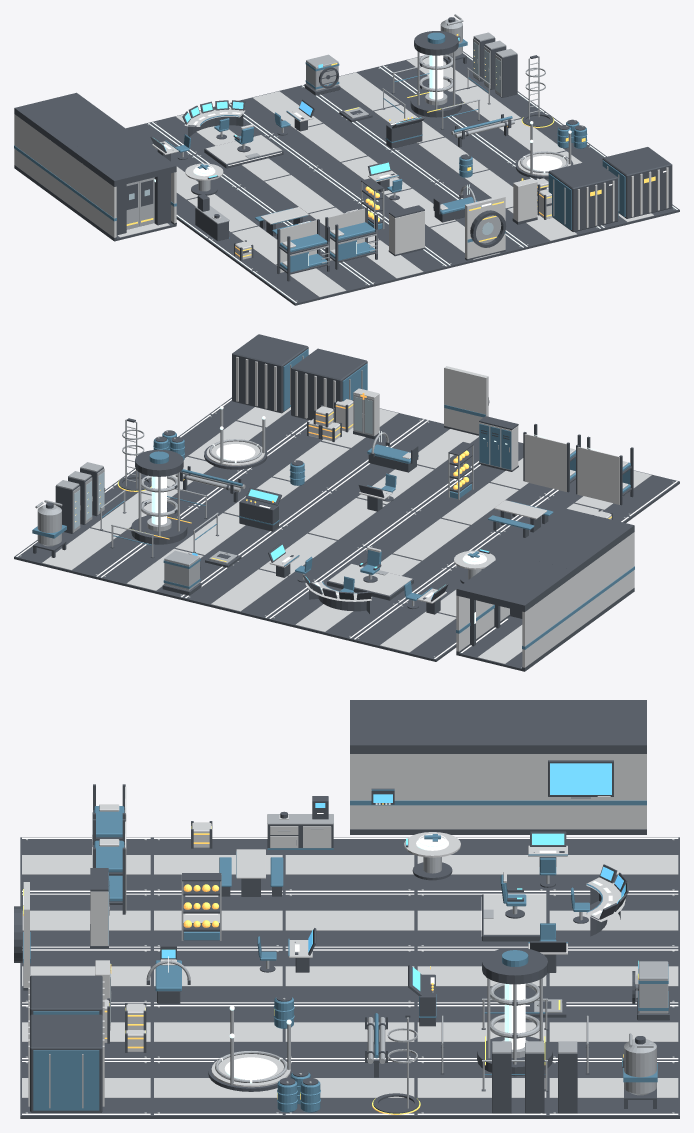
The model's file is spaceship-deck-starter.glb.
3 views of the same model, one above another, from view 1: azimuth 30°, elevation 25°; view 2: azimuth 150°, elevation 25°; view 3: azimuth 270°, elevation 25° (orthographic). The views are drawn at different scales.
Visible parts, largest first — view 1: 027-airlock-chamber/0, 025-corridor-straight/0, 068-cargo-container/0, 027-airlock-chamber/1, 067-cargo-container/0, 011-deck-plate-4m/0, 025-corridor-straight/1, 017-deck-plate-4m/0, 004-deck-plate-4m/0, 007-deck-plate-4m/0, 012-deck-plate-4m/0, 010-deck-plate-4m/0 (+66 smaller); view 2: 025-corridor-straight/0, 025-corridor-straight/1, 027-airlock-chamber/0, 067-cargo-container/0, 068-cargo-container/0, 010-deck-plate-4m/0, 027-airlock-chamber/1, 012-deck-plate-4m/0, 007-deck-plate-4m/0, 018-deck-plate-4m/0, 000-deck-plate-4m/0, 065-escape-pod-hatch/1 (+64 smaller); view 3: 027-airlock-chamber/1, 027-airlock-chamber/0, 025-corridor-straight/0, 025-corridor-straight/1, 007-deck-plate-4m/0, 012-deck-plate-4m/0, 018-deck-plate-4m/0, 013-deck-plate-4m/0, 017-deck-plate-4m/0, 067-cargo-container/2, 010-deck-plate-4m/0, 008-deck-plate-4m/0 (+76 smaller).
Part boxes in pixels (x1=…): 027-airlock-chamber/0: x1=69, y1=133, x2=176, y2=241; 025-corridor-straight/0: x1=14, y1=92, x2=120, y2=200; 068-cargo-container/0: x1=548, y1=160, x2=618, y2=231; 027-airlock-chamber/1: x1=70, y1=155, x2=176, y2=237; 067-cargo-container/0: x1=602, y1=147, x2=672, y2=218; 011-deck-plate-4m/0: x1=271, y1=118, x2=392, y2=168; 025-corridor-straight/1: x1=14, y1=114, x2=58, y2=196; 017-deck-plate-4m/0: x1=393, y1=134, x2=513, y2=182; 004-deck-plate-4m/0: x1=250, y1=253, x2=371, y2=305; 007-deck-plate-4m/0: x1=239, y1=168, x2=359, y2=213; 012-deck-plate-4m/0: x1=316, y1=150, x2=436, y2=200; 010-deck-plate-4m/0: x1=228, y1=85, x2=344, y2=135; 025-corridor-straight/0: x1=456, y1=553, x2=573, y2=671; 025-corridor-straight/1: x1=456, y1=577, x2=573, y2=667; 027-airlock-chamber/0: x1=518, y1=508, x2=634, y2=626; 067-cargo-container/0: x1=232, y1=334, x2=308, y2=413; 068-cargo-container/0: x1=291, y1=348, x2=367, y2=420; 010-deck-plate-4m/0: x1=183, y1=563, x2=312, y2=620; 027-airlock-chamber/1: x1=585, y1=532, x2=634, y2=622; 012-deck-plate-4m/0: x1=280, y1=491, x2=412, y2=547; 007-deck-plate-4m/0: x1=365, y1=511, x2=497, y2=567; 018-deck-plate-4m/0: x1=245, y1=435, x2=368, y2=490; 000-deck-plate-4m/0: x1=351, y1=603, x2=456, y2=661; 065-escape-pod-hatch/1: x1=444, y1=366, x2=488, y2=433; 027-airlock-chamber/1: x1=350, y1=754, x2=481, y2=829; 027-airlock-chamber/0: x1=350, y1=700, x2=481, y2=834; 025-corridor-straight/0: x1=515, y1=700, x2=646, y2=834; 025-corridor-straight/1: x1=515, y1=754, x2=646, y2=829; 007-deck-plate-4m/0: x1=284, y1=893, x2=415, y2=948; 012-deck-plate-4m/0: x1=284, y1=948, x2=415, y2=1004; 018-deck-plate-4m/0: x1=152, y1=1004, x2=283, y2=1060; 013-deck-plate-4m/0: x1=152, y1=948, x2=283, y2=1004; 017-deck-plate-4m/0: x1=284, y1=1004, x2=415, y2=1060; 067-cargo-container/2: x1=33, y1=1050, x2=99, y2=1110; 010-deck-plate-4m/0: x1=548, y1=948, x2=679, y2=1004; 008-deck-plate-4m/0: x1=152, y1=893, x2=283, y2=948.
Bounding box in the file's own units: 23.64 × 3.6 × 20.19.
